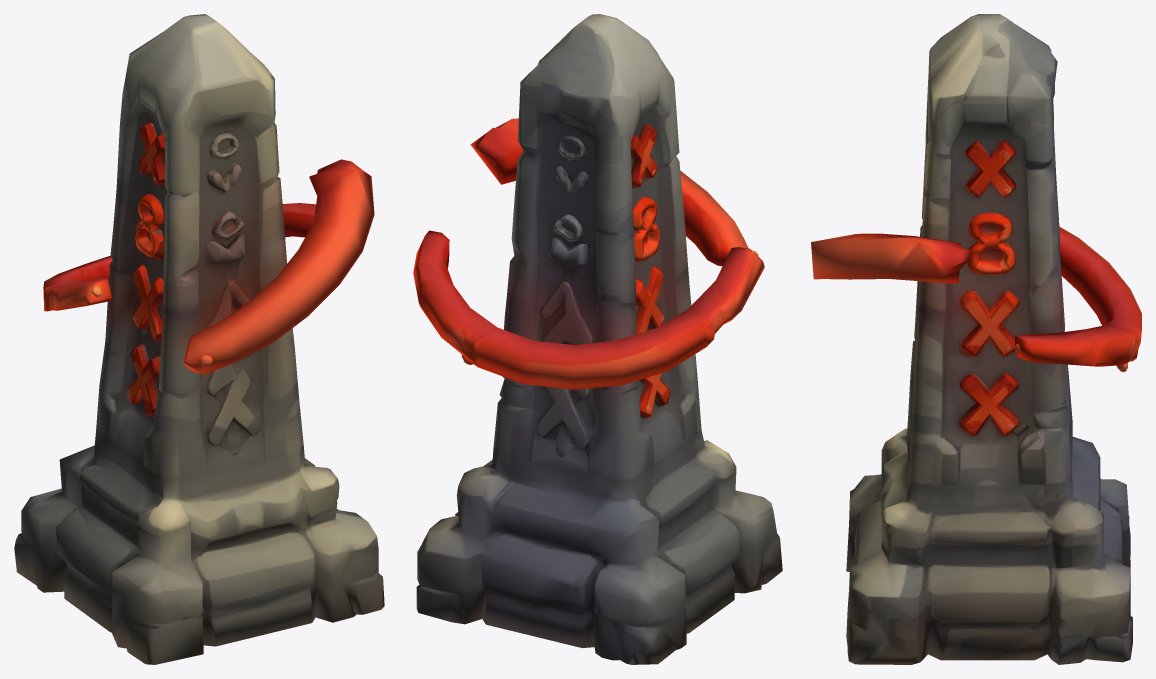
3 renders of one model, left to right at view 1: azimuth 30°, elevation 25°; view 2: azimuth 150°, elevation 25°; view 3: azimuth 270°, elevation 25°, orthographic. The views are drawn at different scales.
Parts seen in each view (by area): view 1: tripo_node_cae59e1c-7a5f-4931-aafd-701f1684cb09; view 2: tripo_node_cae59e1c-7a5f-4931-aafd-701f1684cb09; view 3: tripo_node_cae59e1c-7a5f-4931-aafd-701f1684cb09.
Part boxes in pixels (x1,y1,x2,y2): tripo_node_cae59e1c-7a5f-4931-aafd-701f1684cb09: [14, 14, 384, 664]; tripo_node_cae59e1c-7a5f-4931-aafd-701f1684cb09: [413, 14, 782, 664]; tripo_node_cae59e1c-7a5f-4931-aafd-701f1684cb09: [811, 14, 1141, 664].
Size of the model in its own units: 0.5566 by 0.998 by 0.5137.
1 material, 1 textured.
